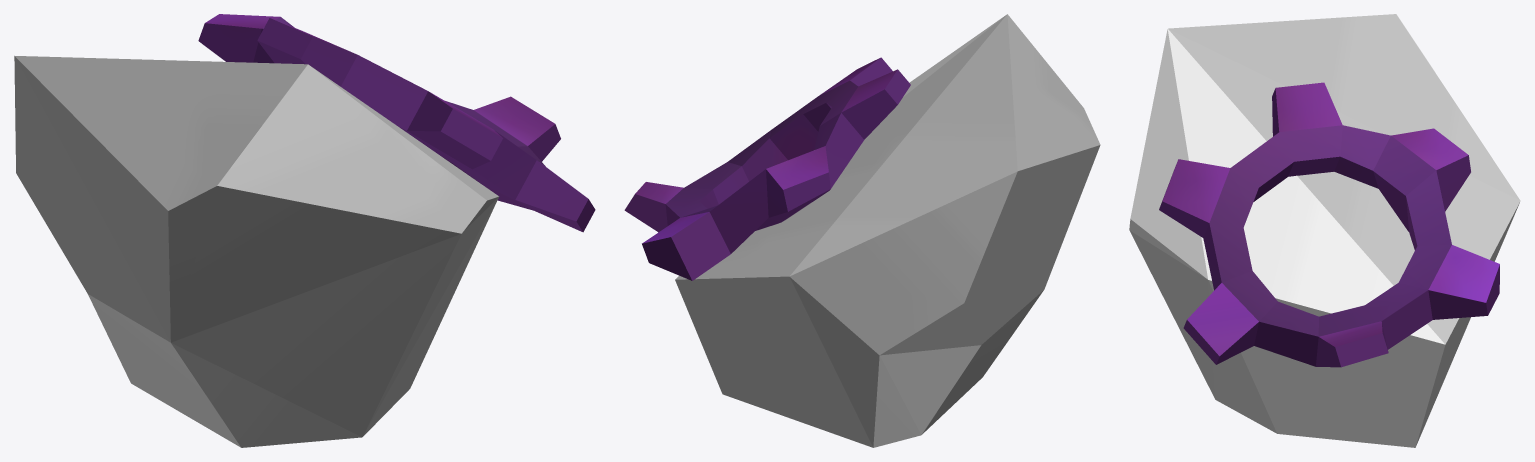
File: obj_stone02_easy.gltf
3 views of the same model, side by side, from view 1: azimuth 30°, elevation 25°; view 2: azimuth 150°, elevation 25°; view 3: azimuth 270°, elevation 25° (orthographic). The views are drawn at different scales.
Visible parts, largest first — view 1: obj_stone02_easy; view 2: obj_stone02_easy; view 3: obj_stone02_easy.
Part boxes in pixels (x1,y1,x2,y2): obj_stone02_easy: (14,14,595,447); obj_stone02_easy: (624,14,1100,447); obj_stone02_easy: (1129,14,1520,447).
Size of what is drawn, in the model's own units: 0.737 by 0.5698 by 0.598.
1 material, 1 textured.
